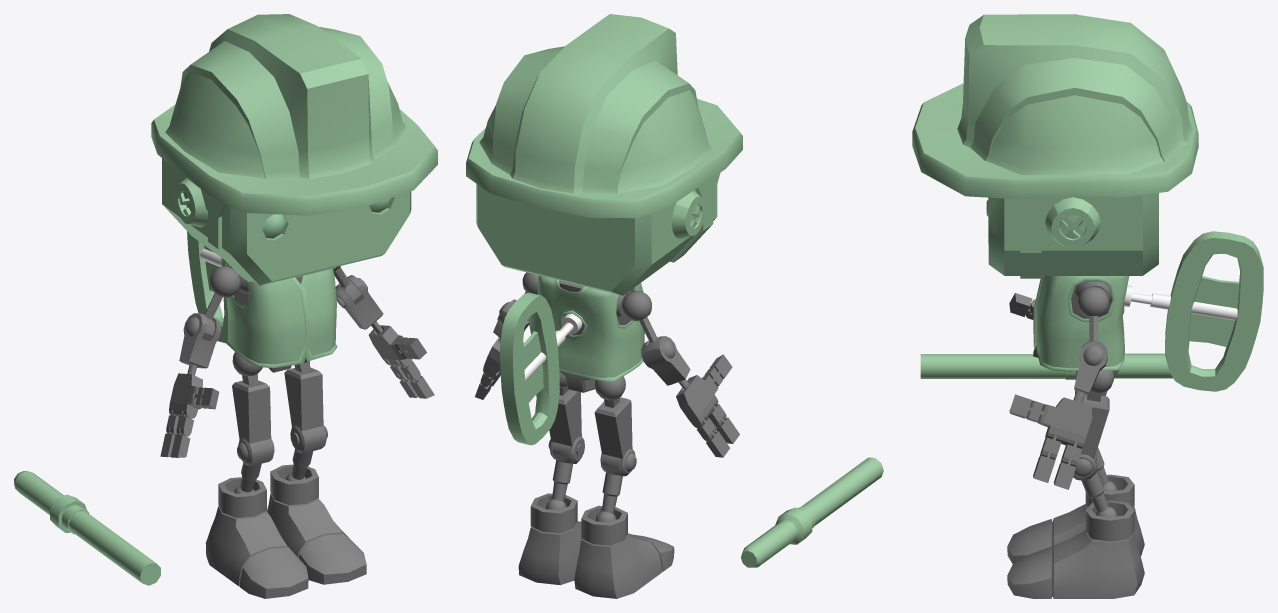
The model's file is ch_npc_construction02_noRig.fbx.
3 renders of one model, left to right at view 1: azimuth 30°, elevation 25°; view 2: azimuth 150°, elevation 25°; view 3: azimuth 270°, elevation 25°, orthographic. The views are drawn at different scales.
Parts seen in each view (by area): view 1: hat, body, head_02, clothes, glowstick, spring, ear; view 2: hat, body, head_02, spring, clothes, glowstick, ear; view 3: hat, body, spring, head_02, clothes, glowstick, ear.
Part boxes in pixels (x1=…): hat: x1=151, y1=14, x2=437, y2=281; body: x1=160, y1=248, x2=434, y2=598; head_02: x1=162, y1=158, x2=411, y2=285; clothes: x1=225, y1=261, x2=337, y2=368; glowstick: x1=14, y1=471, x2=160, y2=585; spring: x1=187, y1=231, x2=227, y2=343; ear: x1=174, y1=178, x2=207, y2=227; hat: x1=466, y1=14, x2=742, y2=262; body: x1=475, y1=272, x2=739, y2=598; head_02: x1=476, y1=184, x2=717, y2=295; spring: x1=500, y1=292, x2=559, y2=445; clothes: x1=537, y1=275, x2=644, y2=381; glowstick: x1=741, y1=457, x2=883, y2=567; ear: x1=671, y1=190, x2=706, y2=238; hat: x1=912, y1=14, x2=1198, y2=278; body: x1=1007, y1=281, x2=1237, y2=598; spring: x1=1165, y1=231, x2=1263, y2=391; head_02: x1=986, y1=193, x2=1158, y2=275; clothes: x1=1033, y1=276, x2=1129, y2=371; glowstick: x1=920, y1=353, x2=1173, y2=379; ear: x1=1045, y1=197, x2=1100, y2=247.
Size of the model in its own units: 72.67 by 105 by 61.4.
